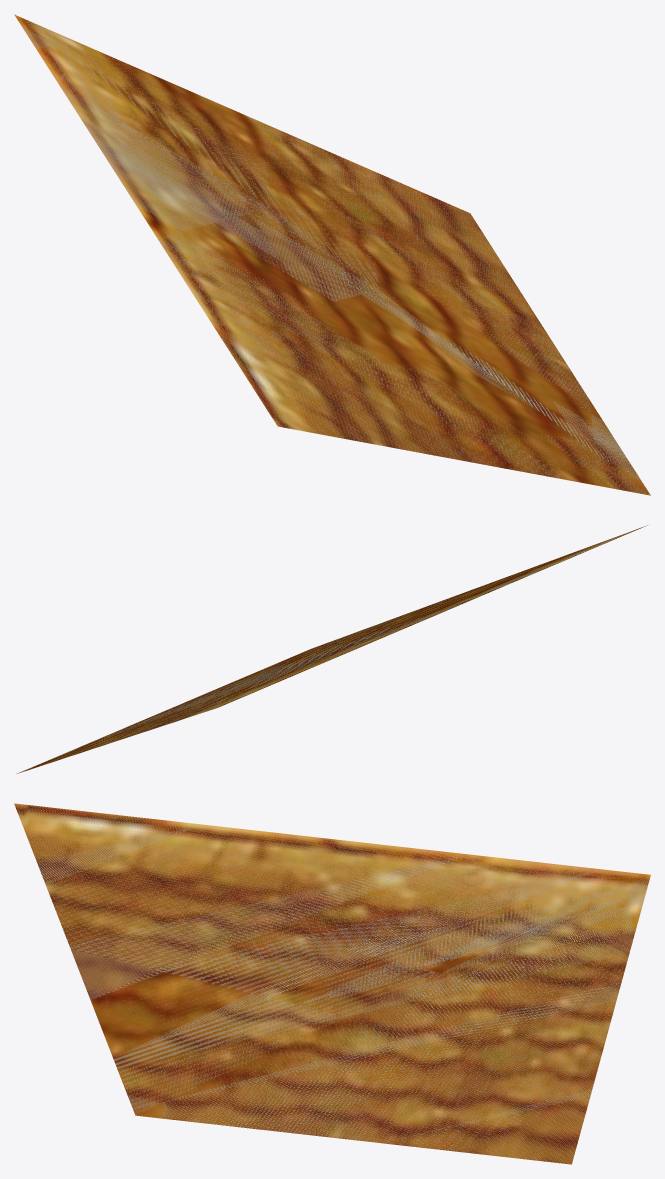
File: 西庸城堡550.dae
The picture shows the model from 3 angles, top to bottom: view 1: azimuth 30°, elevation 25°; view 2: azimuth 150°, elevation 25°; view 3: azimuth 270°, elevation 25°; orthographic projection. The views are drawn at different scales.
Visible parts, largest first — view 1: SketchUp; view 2: SketchUp; view 3: SketchUp.
Part boxes in pixels (bbox=[...]): SketchUp: bbox=[14, 14, 650, 495]; SketchUp: bbox=[17, 525, 647, 773]; SketchUp: bbox=[14, 803, 650, 1164].
Bounding box in the file's own units: 59.65 × 81.32 × 23.07.
